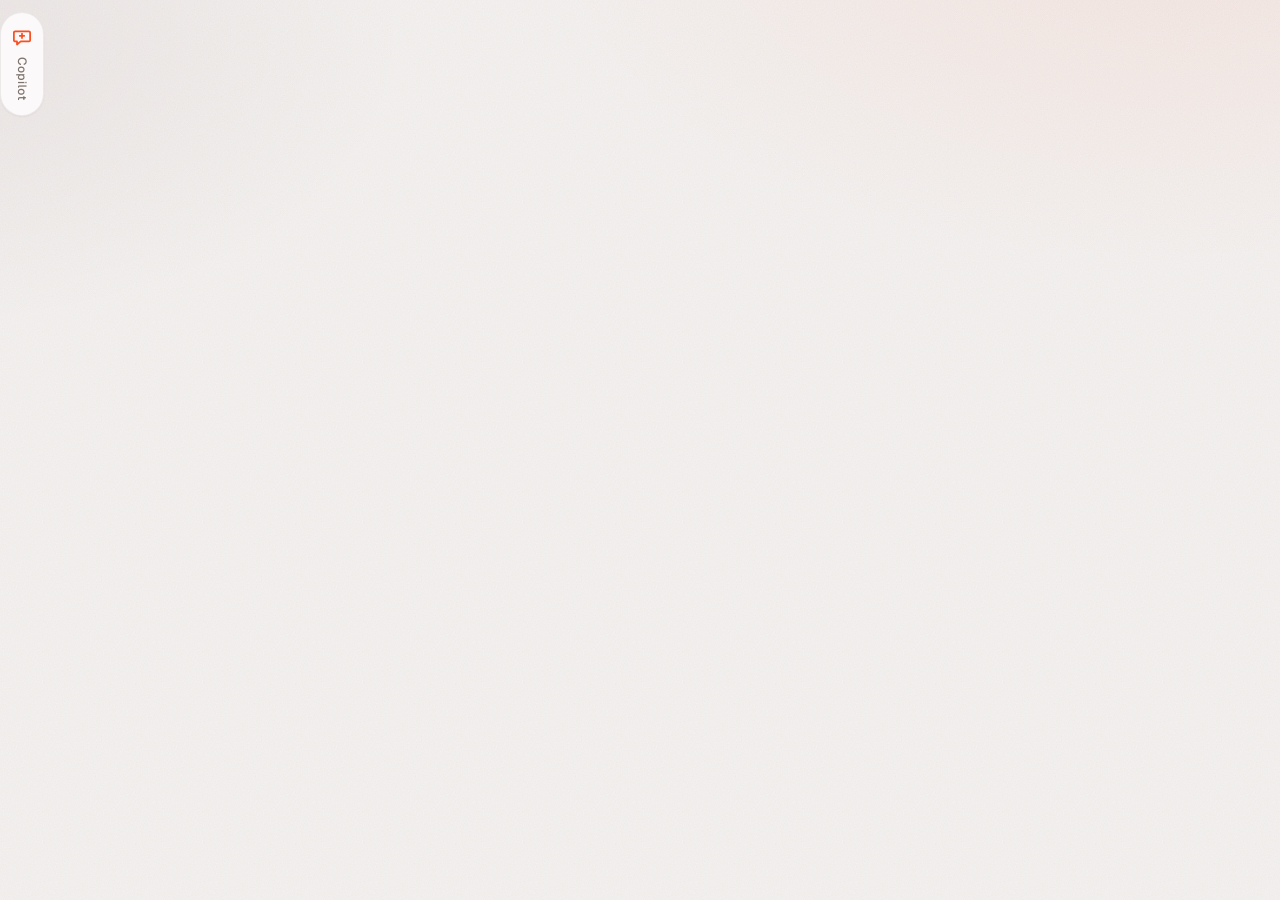
the Copilot sidebar › is open the first time, collapses to a tab, and stays collapsed after a reload
The width and height of the screenshot is (1280, 900).
Earlier steps of the test are not shown.
Expected: the field labelled "Ask the Copilot" is not shown
Click the button with aria-label "Open the Copilot" at (22, 64), box [0, 12, 44, 116]
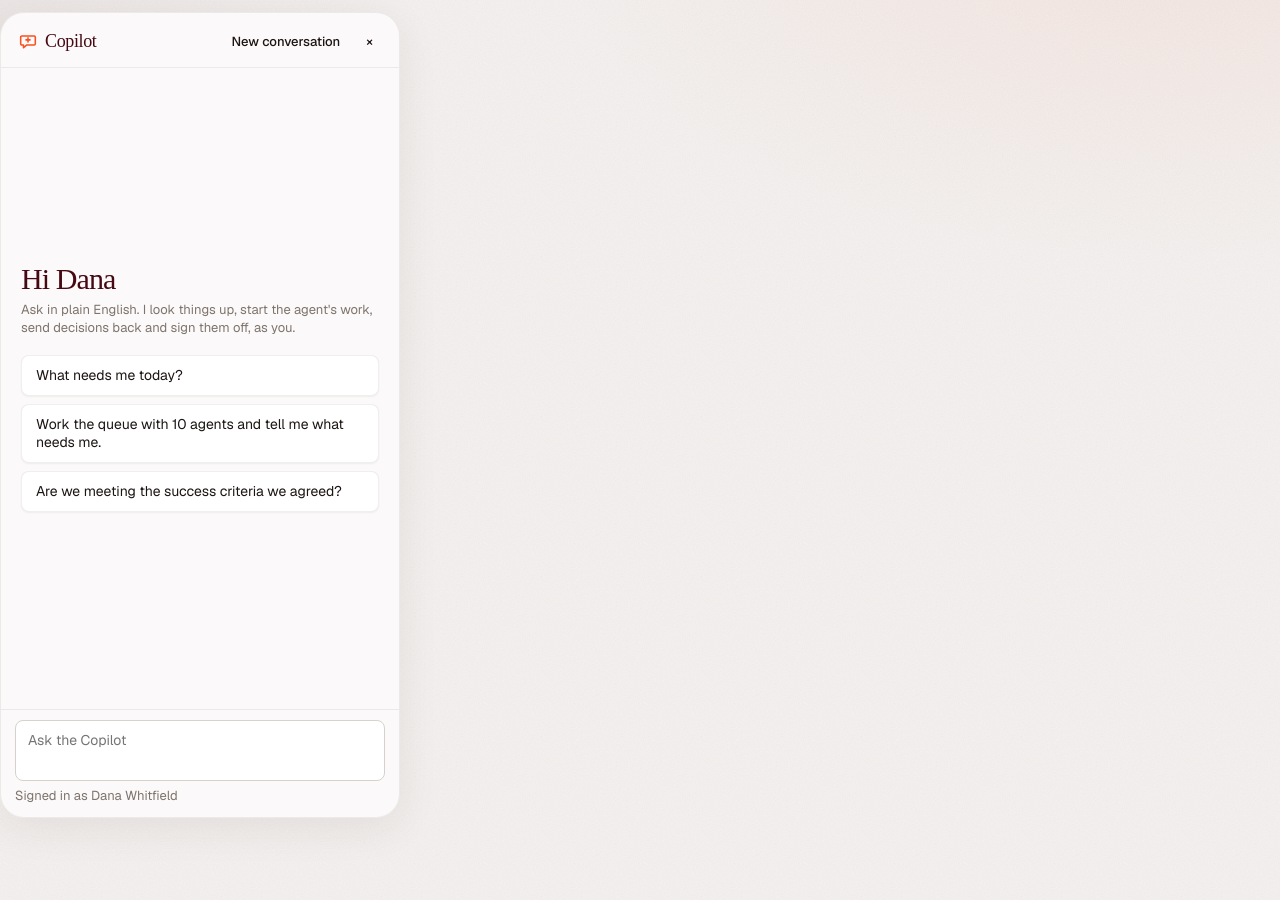
Expected: the text box labelled "Ask the Copilot" is shown, [15, 720, 385, 781]
